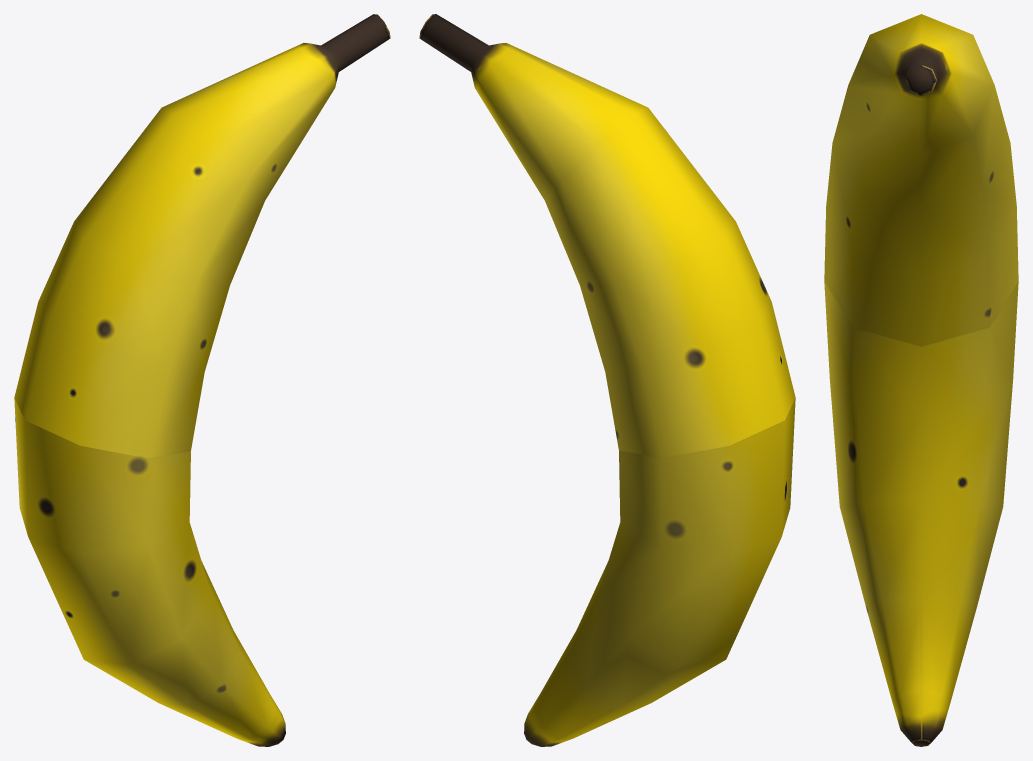
File: Banana.FBX
3 views of the same model, side by side, from view 1: azimuth 30°, elevation 25°; view 2: azimuth 150°, elevation 25°; view 3: azimuth 270°, elevation 25° (orthographic). The views are drawn at different scales.
Visible parts, largest first — view 1: BANANA_UP, BANANA_DOWN; view 2: BANANA_UP, BANANA_DOWN; view 3: BANANA_DOWN, BANANA_UP.
Part boxes in pixels (x1,y1,x2,y2): BANANA_UP: (14, 14, 390, 458); BANANA_DOWN: (14, 398, 285, 746); BANANA_UP: (419, 14, 795, 458); BANANA_DOWN: (524, 398, 795, 746); BANANA_DOWN: (824, 282, 1018, 746); BANANA_UP: (824, 14, 1018, 346).
Bounding box in the file's own units: 13.91 × 25.88 × 6.2.
1 material, 1 textured.
